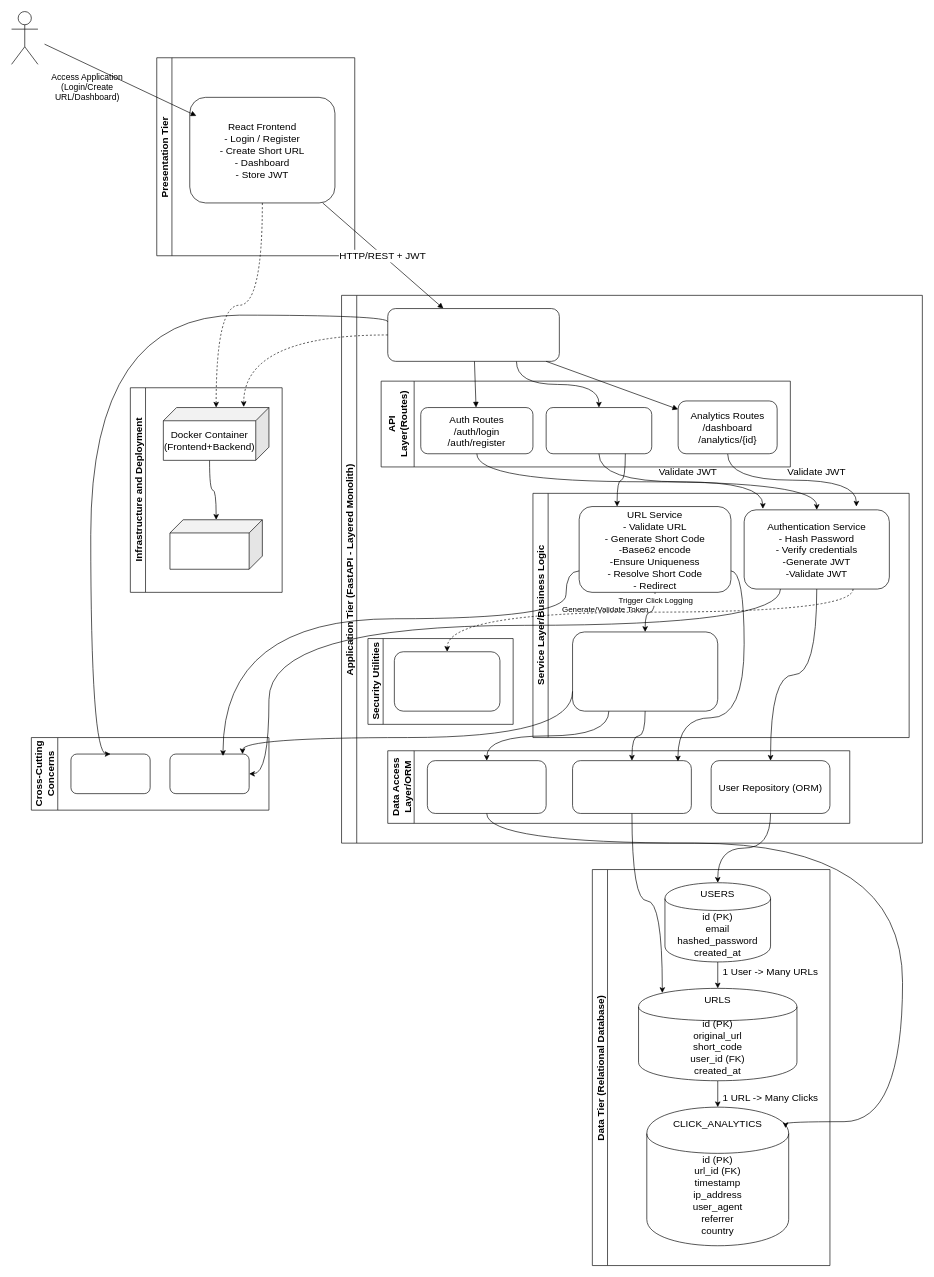
This 934x1277 diagram has some shape labels left out. The centre of each missing label's shape, as x and y in pixels:
"Analytics Service - Track Click - Aggregate Data -Group by Date/Country/Browser" belongs at (x=645, y=671).
"Click Repository (ORM)" belongs at (x=486, y=786).
"CORS Configuration" belongs at (x=110, y=773).
"FastAPI Application (Backend Entry Point)" belongs at (x=473, y=334).
"JWT Utility (Token Encoding/Decoding)" belongs at (x=447, y=681).
"Local Machine {Local Host/Cloud VM)" belongs at (x=215, y=544).
"Logging (Application Logs)" belongs at (x=209, y=773).
"URL Repository (ORM)" belongs at (x=631, y=786).
"URL Routes /urls /{short_code}" belongs at (x=598, y=430).
"User" belongs at (x=24, y=37).
